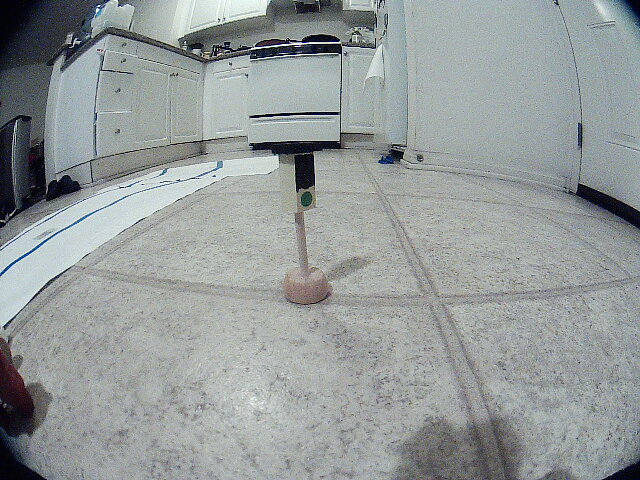Green Traffic Light: (267, 140, 340, 223)
